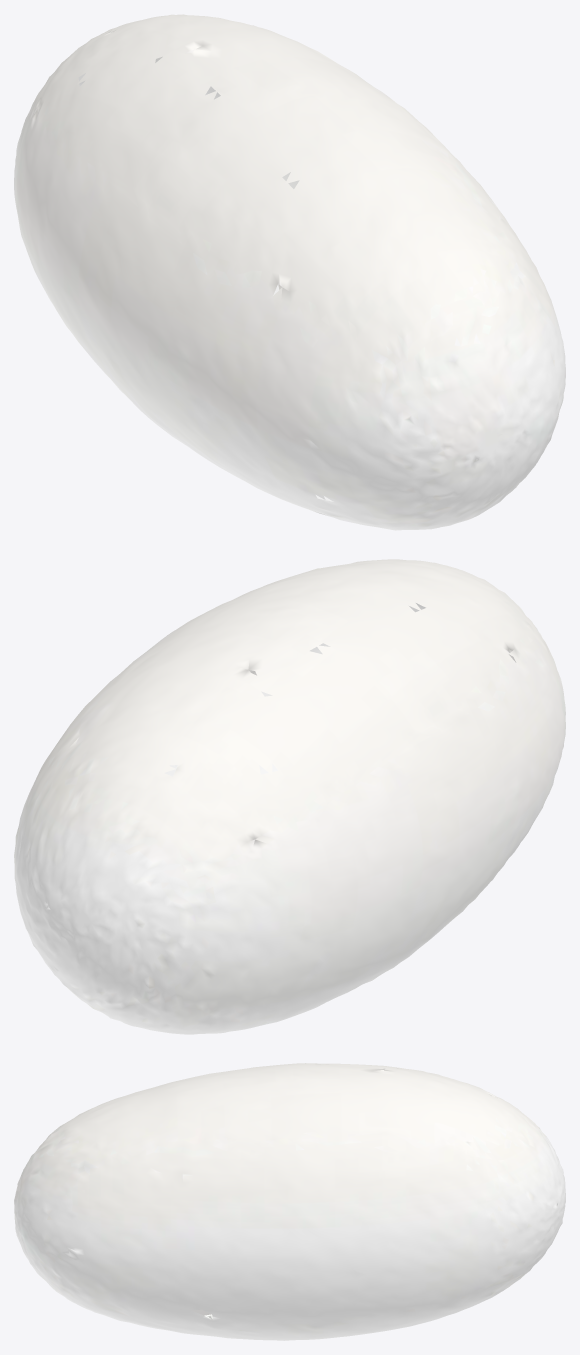
Rendered from muslo.glb.
3 renders of one model, top to bottom at view 1: azimuth 30°, elevation 25°; view 2: azimuth 150°, elevation 25°; view 3: azimuth 270°, elevation 25°, orthographic. The views are drawn at different scales.
Visible parts, largest first — view 1: Mesh_0; view 2: Mesh_0; view 3: Mesh_0.
Boxes of the visible parts, box(x1,y1,x2,y2) form: Mesh_0: box(14, 14, 565, 530); Mesh_0: box(14, 559, 565, 1034); Mesh_0: box(14, 1063, 565, 1340).
Size of the model in its own units: 0.1497 by 0.1525 by 0.3004.
1 material, 1 textured.
